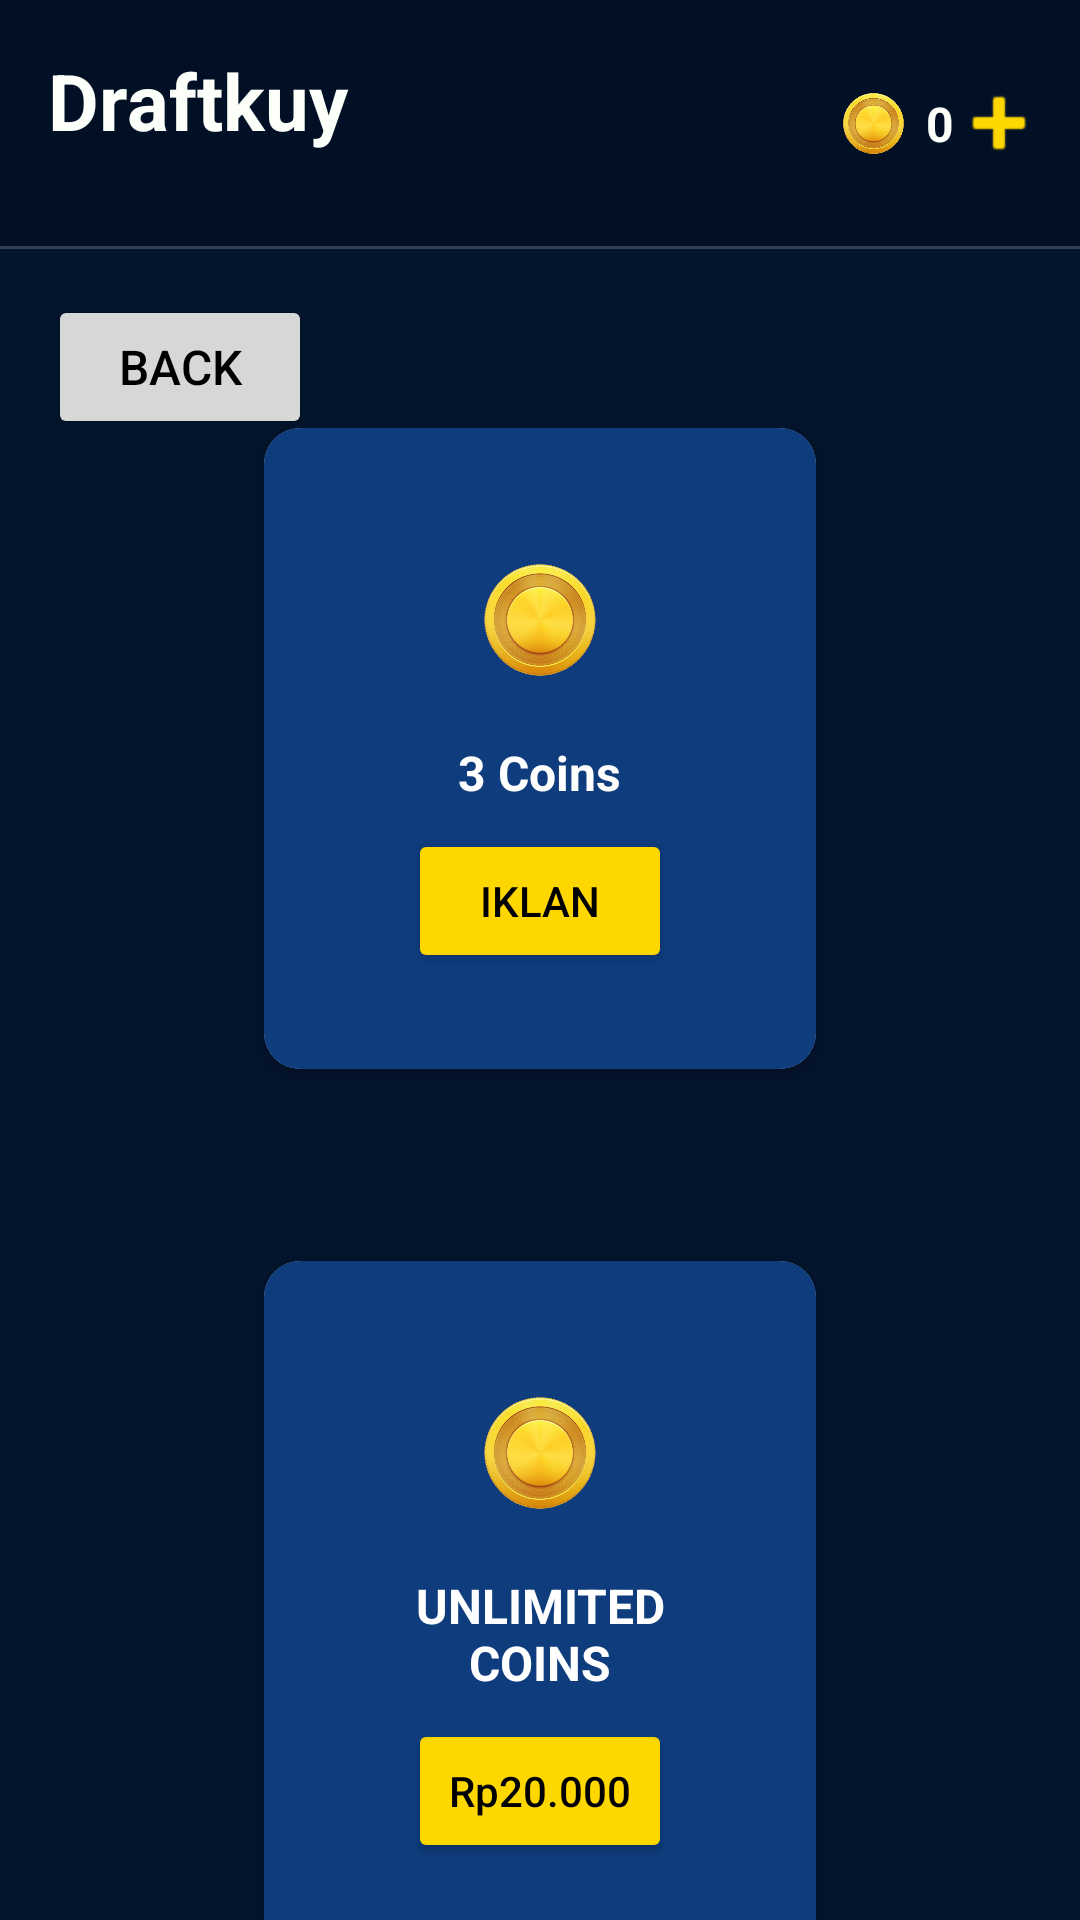

Point at icon controls on the screen. Image size 1080px x 1920px, points as (x,y).
Top Up: (999,123)
